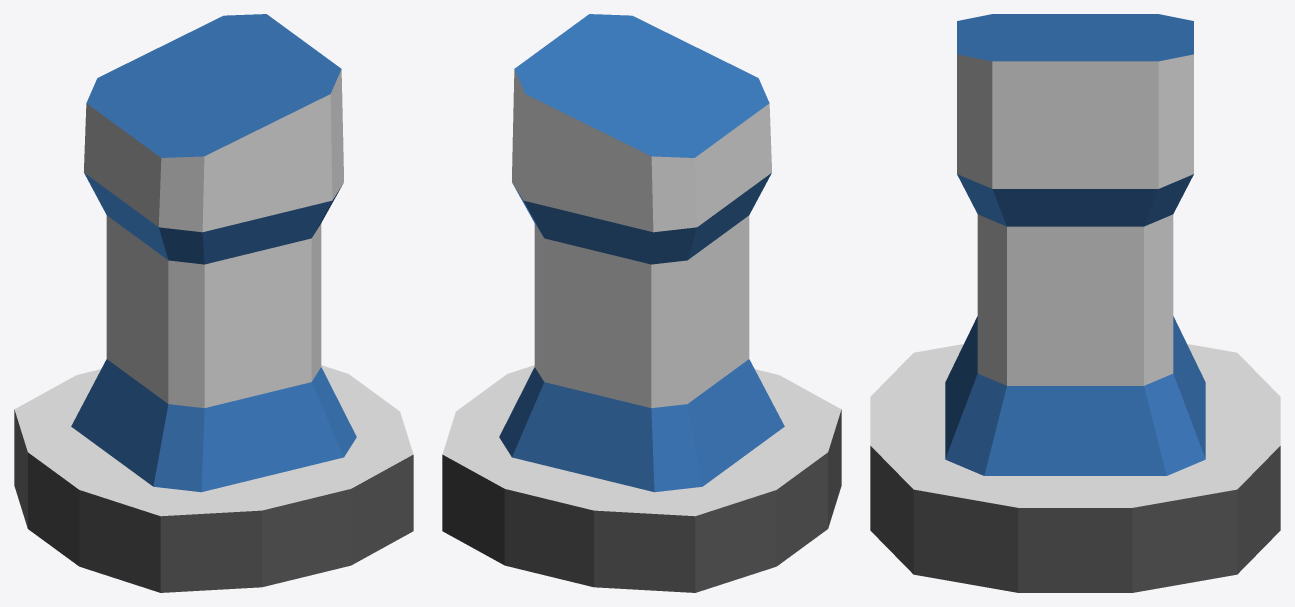
Rendered from Weaponplatformbase_01.fbx.
3 views of the same model, side by side, from view 1: azimuth 30°, elevation 25°; view 2: azimuth 150°, elevation 25°; view 3: azimuth 270°, elevation 25° (orthographic). The views are drawn at different scales.
Parts seen in each view (by area): view 1: Weaponplatformbase_01; view 2: Weaponplatformbase_01; view 3: Weaponplatformbase_01.
Boxes of the visible parts, x1=… form: Weaponplatformbase_01: x1=14, y1=14, x2=413, y2=592; Weaponplatformbase_01: x1=442, y1=14, x2=841, y2=592; Weaponplatformbase_01: x1=870, y1=14, x2=1280, y2=592.
Size of the model in its own units: 3.46 by 4.59 by 3.46.
